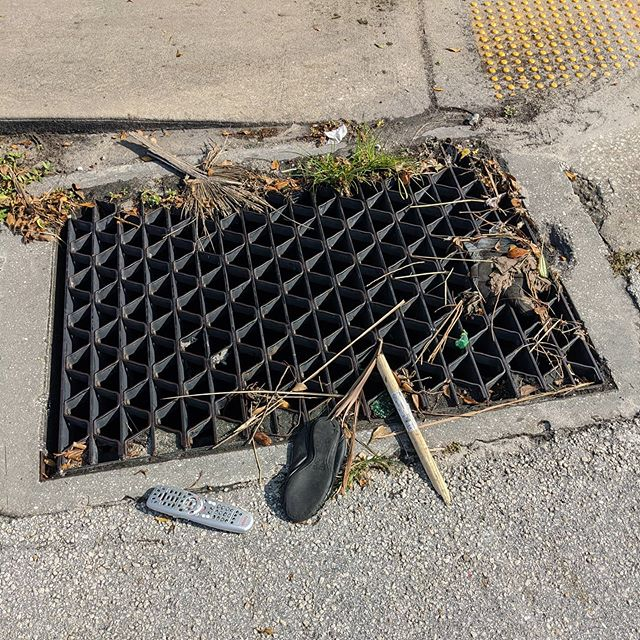trash: (34, 117, 616, 505)
